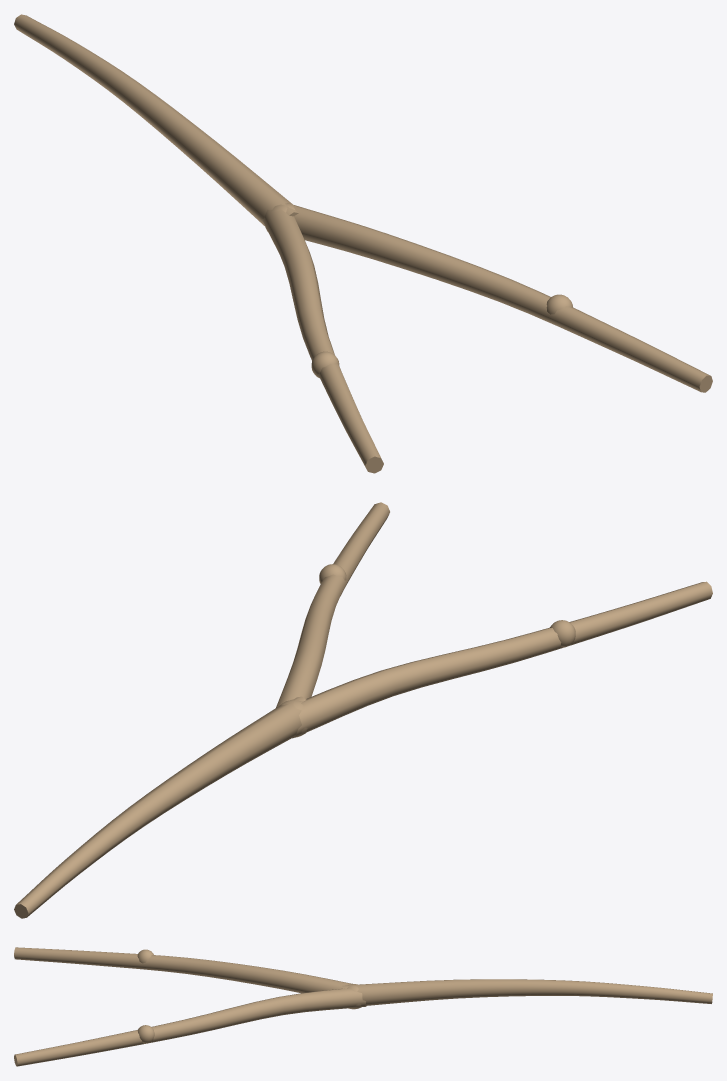
Rendered from item-hal-dowsing-rod.glb.
The picture shows the model from 3 angles, top to bottom: view 1: azimuth 30°, elevation 25°; view 2: azimuth 150°, elevation 25°; view 3: azimuth 270°, elevation 25°; orthographic projection. The views are drawn at different scales.
Size of the model in its own units: 0.2559 by 0.0357 by 0.6723.
